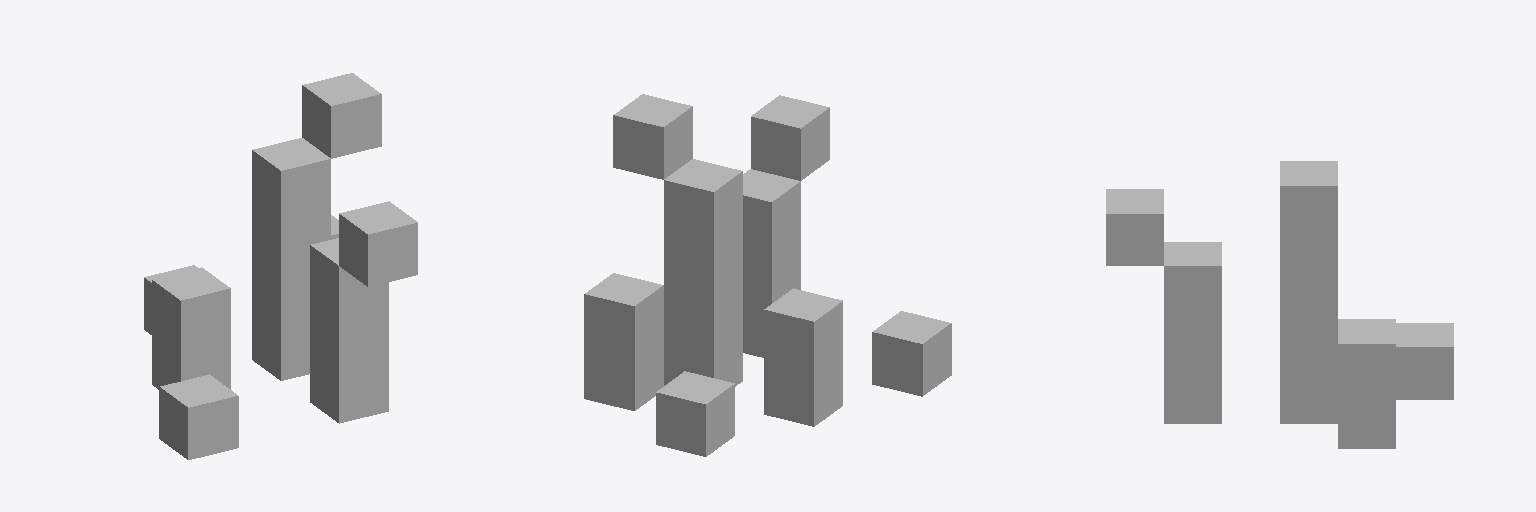
Rendered from Grass1.obj.
3 views of the same model, side by side, from view 1: azimuth 30°, elevation 25°; view 2: azimuth 150°, elevation 25°; view 3: azimuth 270°, elevation 25° (orthographic).
Visible parts, largest first — view 1: Grass1; view 2: Grass1; view 3: Grass1.
Part boxes in pixels (left/top/right/bottom): Grass1: left=144, top=73, right=417, bottom=459; Grass1: left=584, top=94, right=951, bottom=456; Grass1: left=1106, top=161, right=1453, bottom=448.
Bounding box in the file's own units: 5 × 5 × 6.